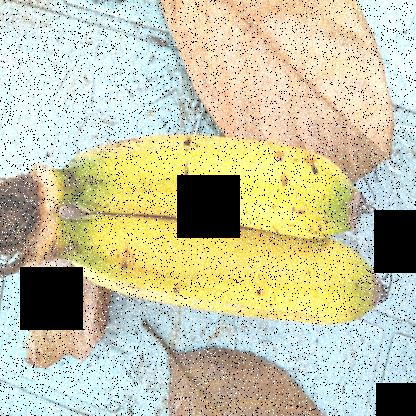freshripe: (67, 205, 378, 345)
ripe: (60, 106, 375, 246)
